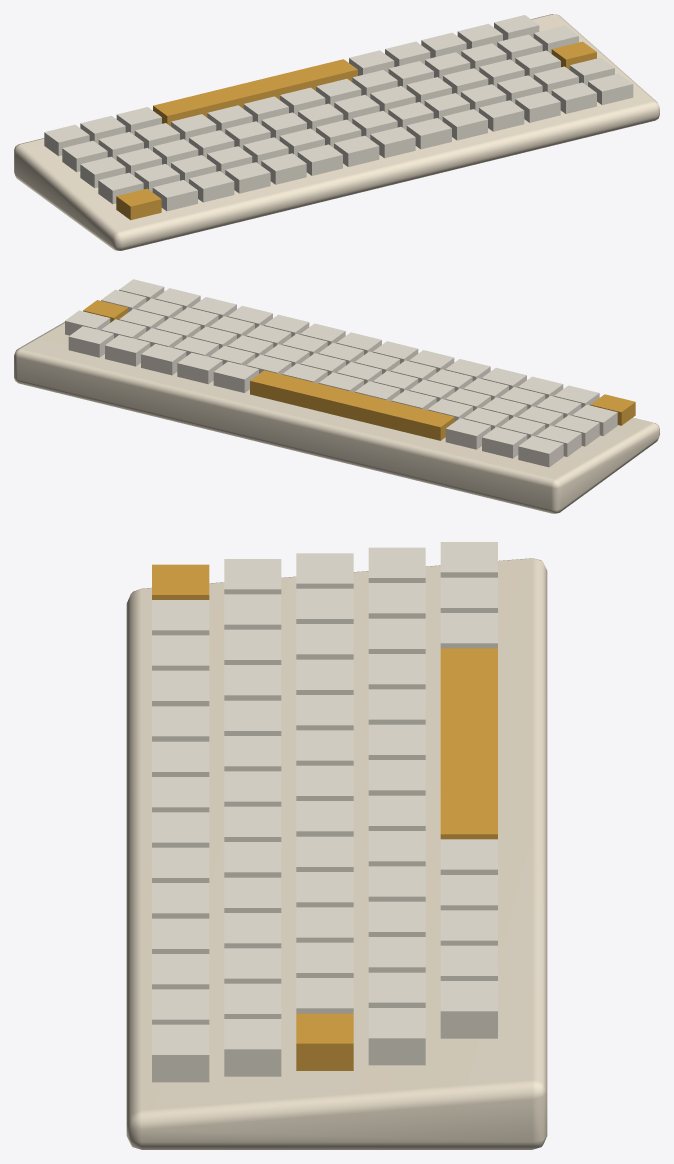
Rendered from RmKeyboard.fbx.
The picture shows the model from 3 angles, top to bottom: view 1: azimuth 30°, elevation 25°; view 2: azimuth 150°, elevation 25°; view 3: azimuth 270°, elevation 25°; orthographic projection. The views are drawn at different scales.
Visible parts, largest first — view 1: RmKeyboardBody; view 2: RmKeyboardBody; view 3: RmKeyboardBody.
Boxes of the visible parts, <box> form: RmKeyboardBody: <box>14,14,659,250</box>; RmKeyboardBody: <box>14,279,659,513</box>; RmKeyboardBody: <box>126,542,547,1149</box>.
Size of the model in its own units: 0.42 by 0.0368 by 0.14.
